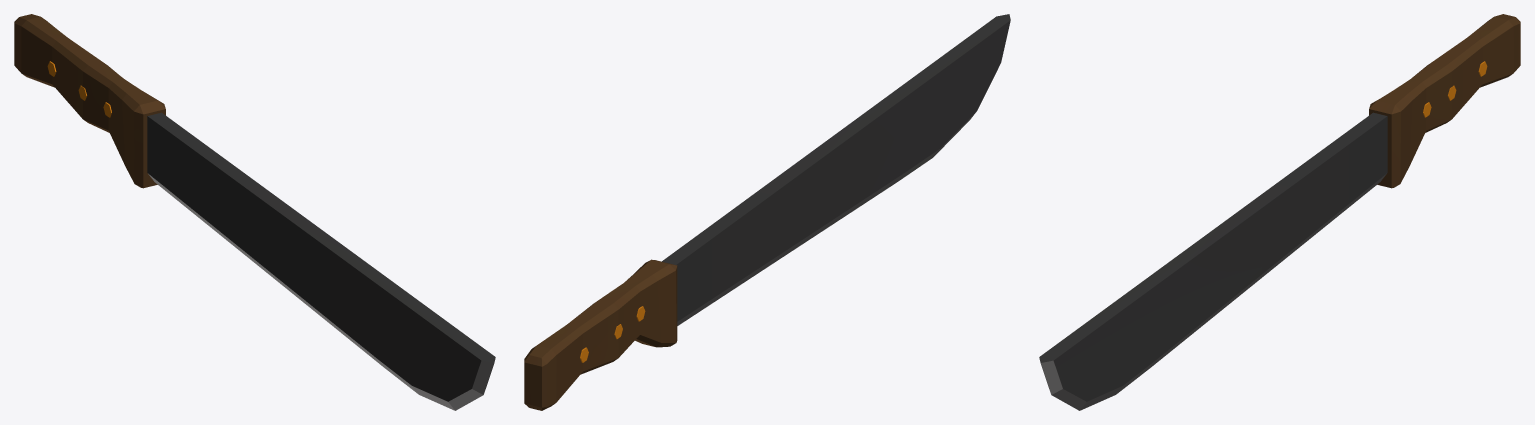
File: Machete.fbx
3 views of the same model, side by side, from view 1: azimuth 30°, elevation 25°; view 2: azimuth 150°, elevation 25°; view 3: azimuth 330°, elevation 25° (orthographic).
Parts seen in each view (by area): view 1: Machete; view 2: Machete; view 3: Machete.
Boxes of the visible parts, x1,y1,x2,y2 form: Machete: [14, 14, 495, 410]; Machete: [524, 14, 1010, 410]; Machete: [1039, 14, 1520, 410].
Size of the model in its own units: 1.56 by 4.61 by 41.71.
Materials: 1 (1 with a texture image).
